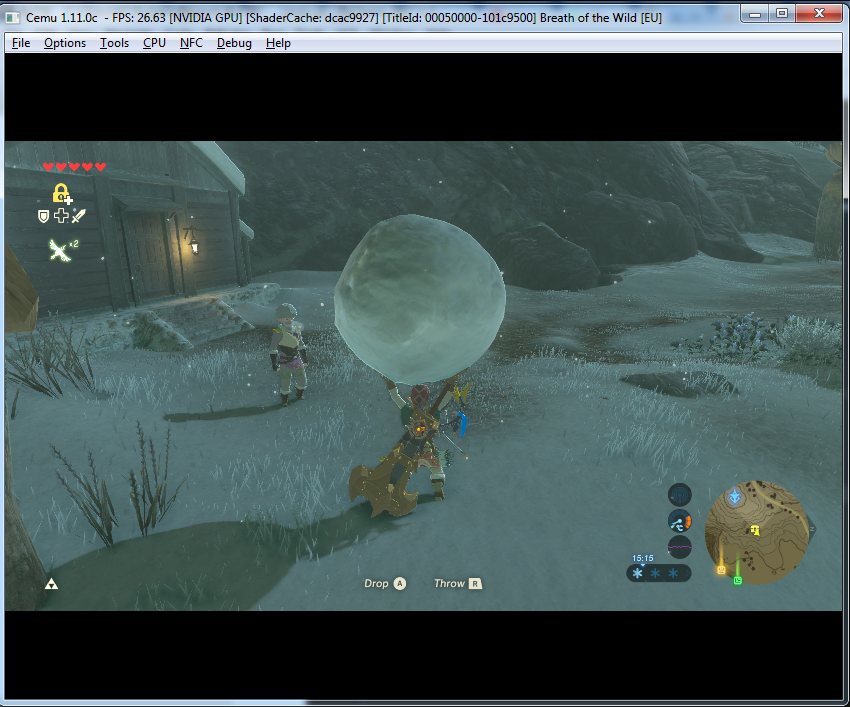dude: (261, 296, 319, 413)
link: (344, 358, 480, 527)
snowball: (324, 210, 521, 379)
